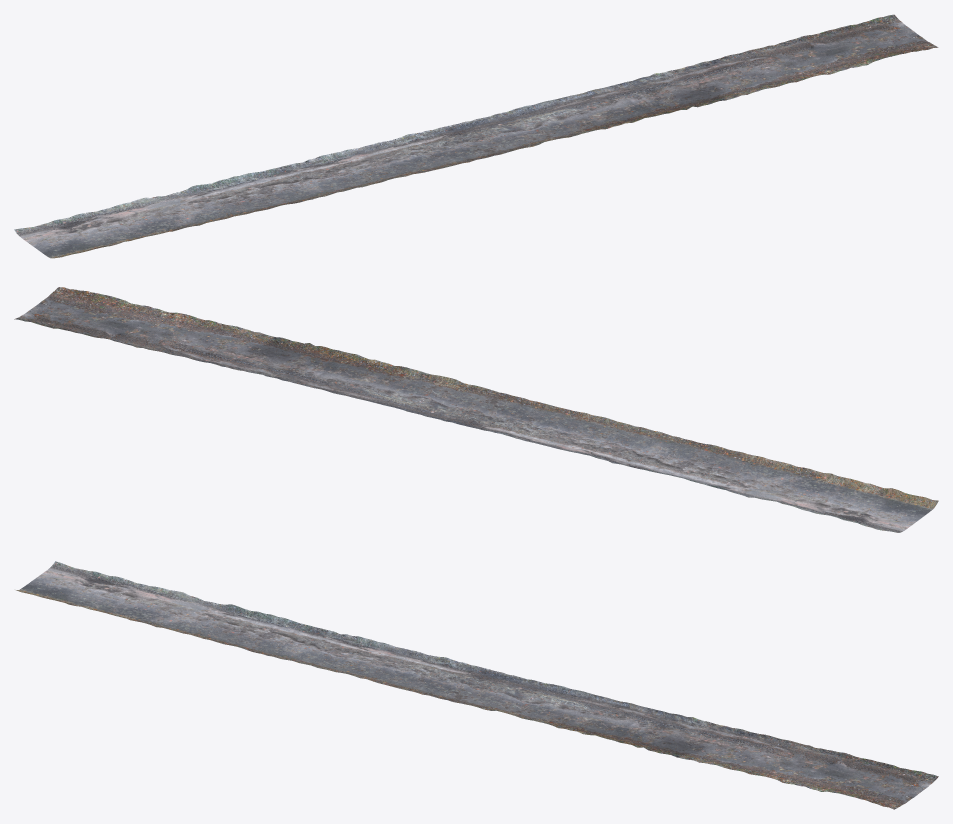
The model's file is road.glb.
The picture shows the model from 3 angles, top to bottom: view 1: azimuth 30°, elevation 25°; view 2: azimuth 150°, elevation 25°; view 3: azimuth 330°, elevation 25°; orthographic projection.
Parts seen in each view (by area): view 1: Plane; view 2: Plane; view 3: Plane.
Part boxes in pixels (<box>): Plane: <box>14,14,938,258</box>; Plane: <box>14,287,938,532</box>; Plane: <box>16,561,938,809</box>.
Bounding box in the file's own units: 14.13 × 0.1002 × 1.3.
1 material, 1 textured.
